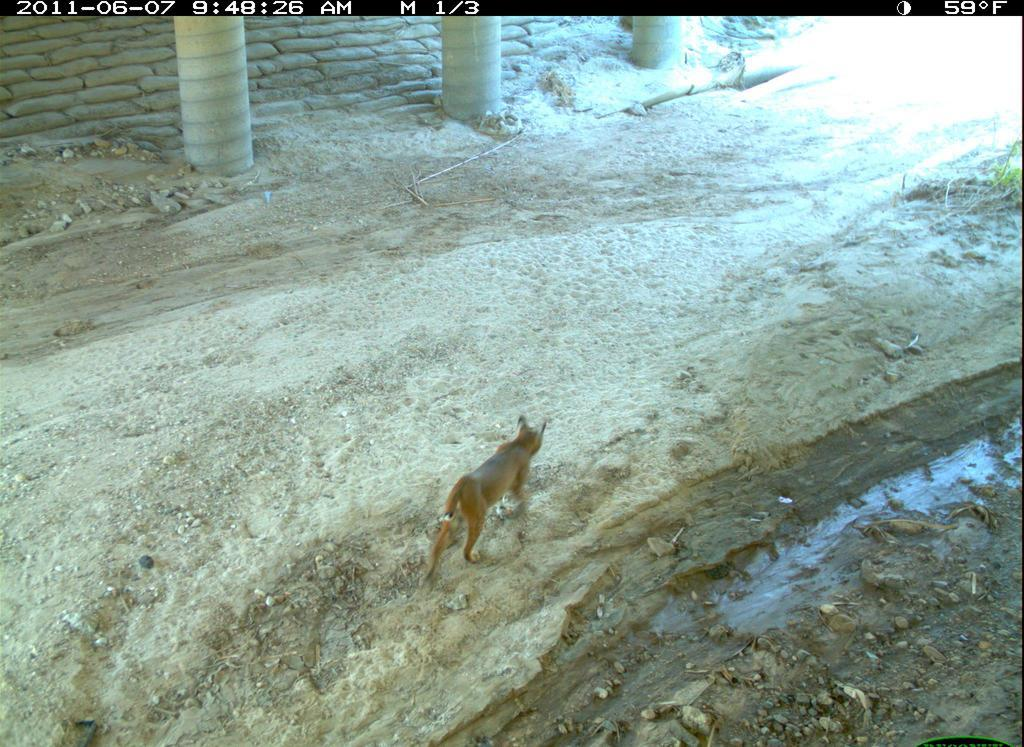bobcat: (415, 405, 556, 589)
